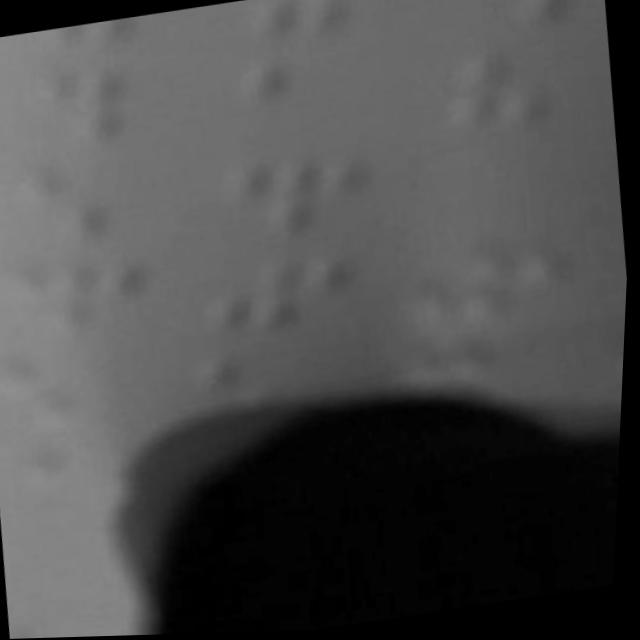braiile: (408, 246, 590, 349), (16, 52, 189, 160), (438, 40, 615, 142), (216, 144, 393, 246), (195, 252, 372, 348), (3, 253, 166, 357), (4, 155, 166, 256), (232, 49, 400, 146), (48, 7, 209, 57), (250, 0, 405, 42), (461, 0, 606, 35)
